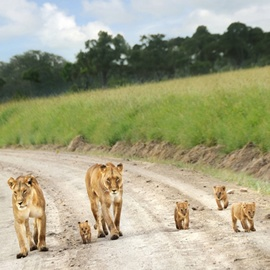lion: (5, 173, 54, 261), (82, 159, 129, 241), (228, 200, 260, 234), (173, 199, 194, 232), (210, 183, 231, 210), (76, 218, 94, 246)
